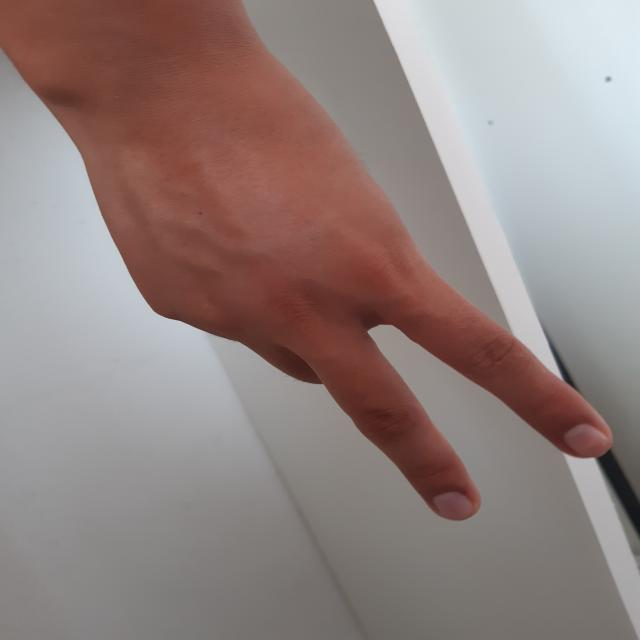EYE: (63, 103, 622, 526)
